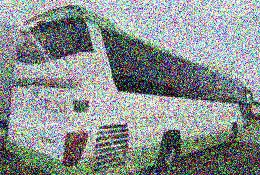bus: (6, 4, 253, 175)
